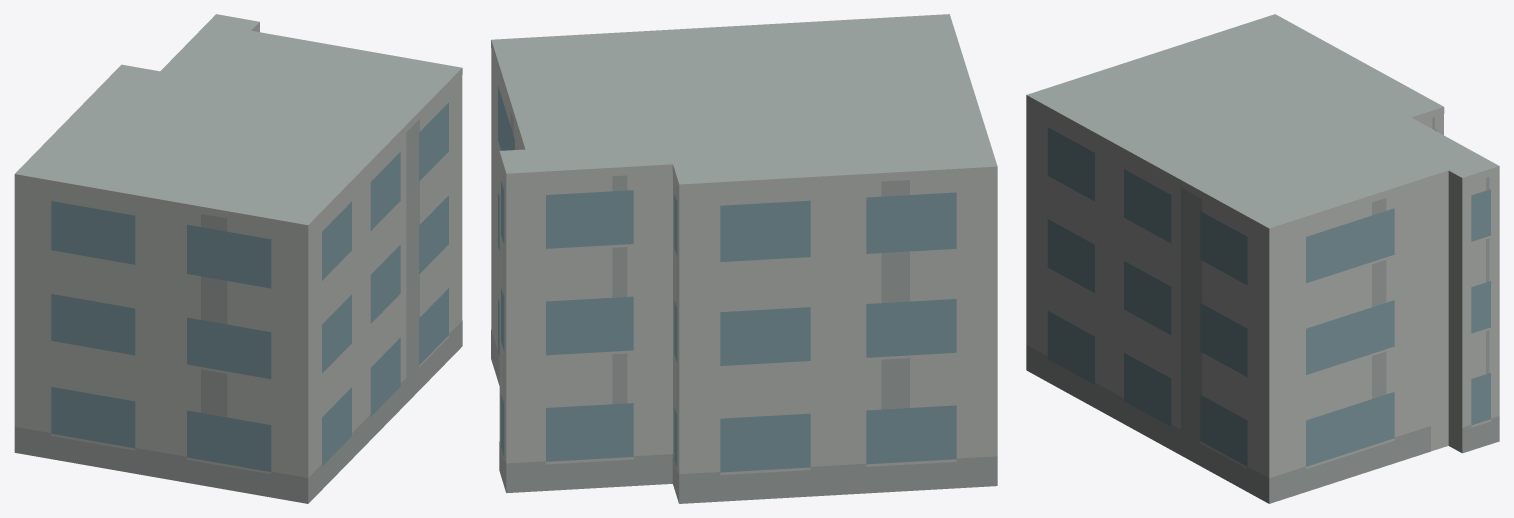
File: residential-2d89e64c-93fd-4f6c-9db3-cf905a4ad41d.glb
3 views of the same model, side by side, from view 1: azimuth 30°, elevation 25°; view 2: azimuth 150°, elevation 25°; view 3: azimuth 270°, elevation 25° (orthographic). The views are drawn at different scales.
Visible parts, largest first — view 1: residential-2d89e64c-93fd-4f6c-9db3-cf905a4ad41d.tmp; view 2: residential-2d89e64c-93fd-4f6c-9db3-cf905a4ad41d.tmp; view 3: residential-2d89e64c-93fd-4f6c-9db3-cf905a4ad41d.tmp.
Boxes of the visible parts, box(x1,y1,x2,y2) form: residential-2d89e64c-93fd-4f6c-9db3-cf905a4ad41d.tmp: box(14, 14, 462, 503); residential-2d89e64c-93fd-4f6c-9db3-cf905a4ad41d.tmp: box(491, 14, 997, 503); residential-2d89e64c-93fd-4f6c-9db3-cf905a4ad41d.tmp: box(1026, 14, 1499, 503).
Bounding box in the file's own units: 15.29 × 9.15 × 14.26.
